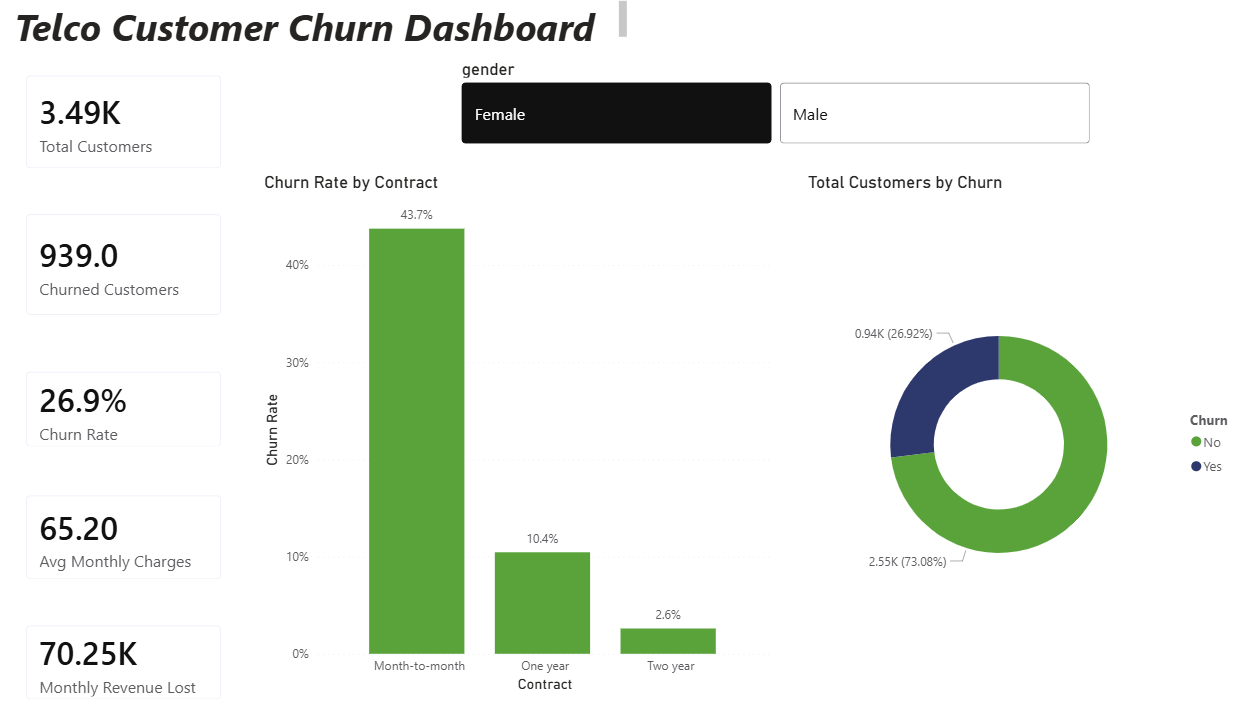

The dashboard page shown, as its layout file describes it:
{"tool":"powerbi","page":{"name":"Overview","canvas":[1280,720],"ordinal":0},"visuals":[{"type":"cardVisual","fields":{"Data":["Telco.Total Customers"]},"box":[16.5,63.1,229.2,127.6],"z":0},{"type":"cardVisual","fields":{"Data":["Telco.Churned Customers"]},"box":[16.5,201.7,229.2,135.8],"z":1000},{"type":"cardVisual","fields":{"Data":["Telco.Churn Rate"]},"box":[16.5,358.1,229.2,109.8],"z":2000},{"type":"cardVisual","fields":{"Data":["Telco.Avg Monthly Charges"]},"box":[16.5,483,229.2,118],"z":3000},{"type":"cardVisual","fields":{"Data":["Telco.Monthly Revenue Lost"]},"box":[16.5,612,229.2,108.4],"z":4000},{"type":"donutChart","fields":{"Category":["Telco.Churn"],"Y":["Telco.Total Customers"]},"box":[809.6,175.6,450.1,525.6],"z":5000},{"type":"clusteredColumnChart","fields":{"Category":["Telco.Contract"],"Y":["Telco.Churn Rate"]},"box":[266.2,175.6,517.3,525.6],"z":6000},{"type":"advancedSlicerVisual","fields":{"Values":["Telco.gender"]},"box":[463.8,63.1,639.5,90.6],"z":7000},{"type":"textbox","box":[16.5,0,623,52.1],"z":8000}]}

Visuals, with their boxes in screenshot pixels (x1, y1, x2, y2), scaled from the page's 1280x720 canvas onto the 1256x707 screenshot:
cardVisual - Telco.Total Customers: bbox=[16, 62, 241, 187]
cardVisual - Telco.Churned Customers: bbox=[16, 198, 241, 331]
cardVisual - Telco.Churn Rate: bbox=[16, 352, 241, 459]
cardVisual - Telco.Avg Monthly Charges: bbox=[16, 474, 241, 590]
cardVisual - Telco.Monthly Revenue Lost: bbox=[16, 601, 241, 706]
donutChart - Telco.Churn x Telco.Total Customers: bbox=[794, 172, 1236, 689]
clusteredColumnChart - Telco.Contract x Telco.Churn Rate: bbox=[261, 172, 769, 689]
advancedSlicerVisual - Telco.gender: bbox=[455, 62, 1083, 151]
textbox: bbox=[16, 0, 628, 51]
